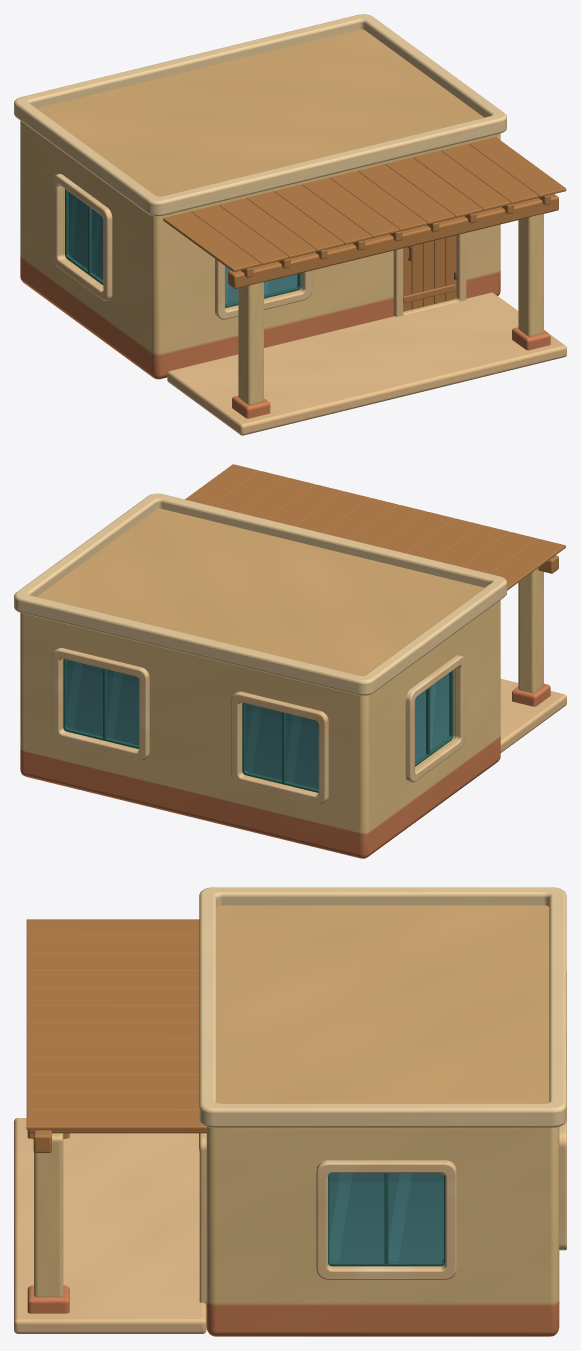
File: SparkBound_House_02.fbx
3 views of the same model, one above another, from view 1: azimuth 30°, elevation 25°; view 2: azimuth 150°, elevation 25°; view 3: azimuth 270°, elevation 25° (orthographic). The views are drawn at different scales.
Visible parts, largest first — view 1: SparkBound_House_02_Geometry; view 2: SparkBound_House_02_Geometry; view 3: SparkBound_House_02_Geometry.
Boxes of the visible parts, x1=… form: SparkBound_House_02_Geometry: x1=14, y1=14, x2=566, y2=435; SparkBound_House_02_Geometry: x1=14, y1=464, x2=566, y2=858; SparkBound_House_02_Geometry: x1=14, y1=887, x2=566, y2=1336.
Bounding box in the file's own units: 7.21 × 3.53 × 7.53.
